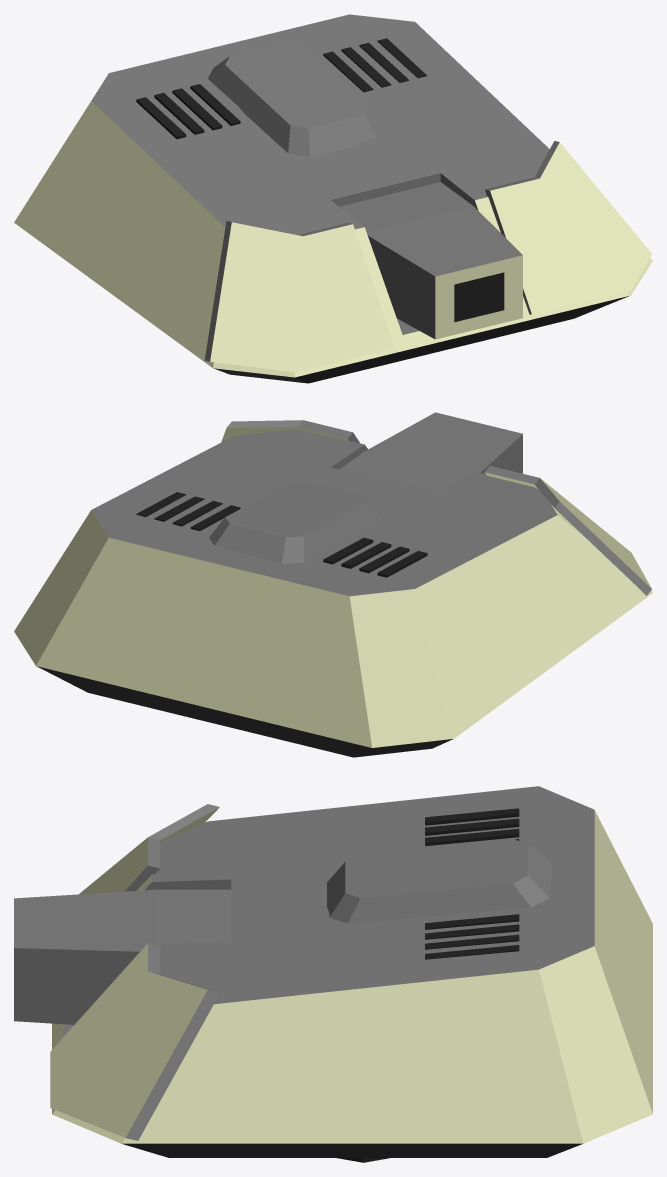
Rendered from friendly_turret.glb.
The picture shows the model from 3 angles, top to bottom: view 1: azimuth 30°, elevation 25°; view 2: azimuth 150°, elevation 25°; view 3: azimuth 270°, elevation 25°; orthographic projection. The views are drawn at different scales.
Parts seen in each view (by area): view 1: turret body, barrel base; view 2: turret body, barrel base; view 3: turret body, barrel base.
Part boxes in pixels (<box>): turret body: <box>14,14,652,383</box>; barrel base: <box>339,182,522,339</box>; turret body: <box>14,420,652,757</box>; barrel base: <box>340,412,522,493</box>; turret body: <box>50,786,652,1162</box>; barrel base: <box>14,889,231,1024</box>.
Size of the model in its own units: 2.13 by 0.9918 by 2.3.
